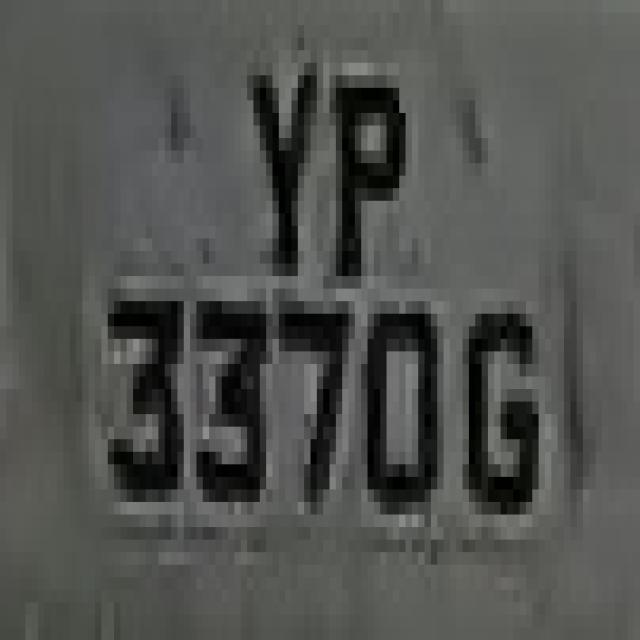0: (348, 251, 450, 540)
3: (82, 264, 196, 540), (190, 251, 273, 527)
7: (260, 251, 355, 552)
G: (450, 276, 558, 565)
P: (317, 50, 412, 289)
Y: (234, 13, 330, 276)
